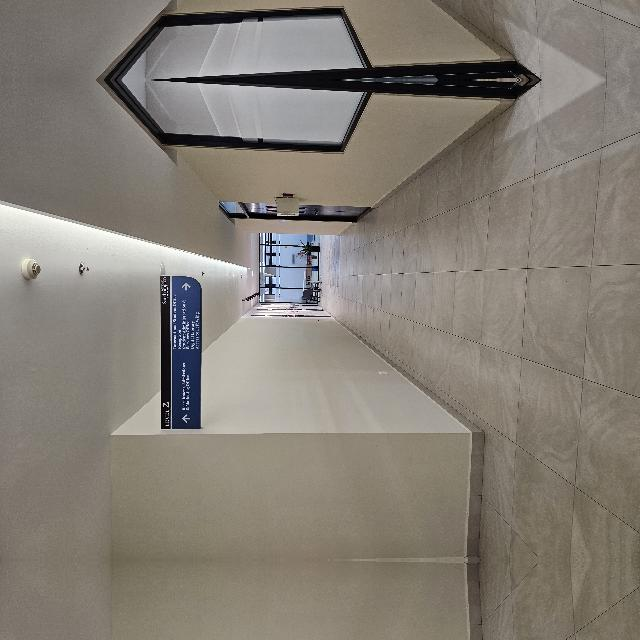door: (326, 292, 369, 470)
